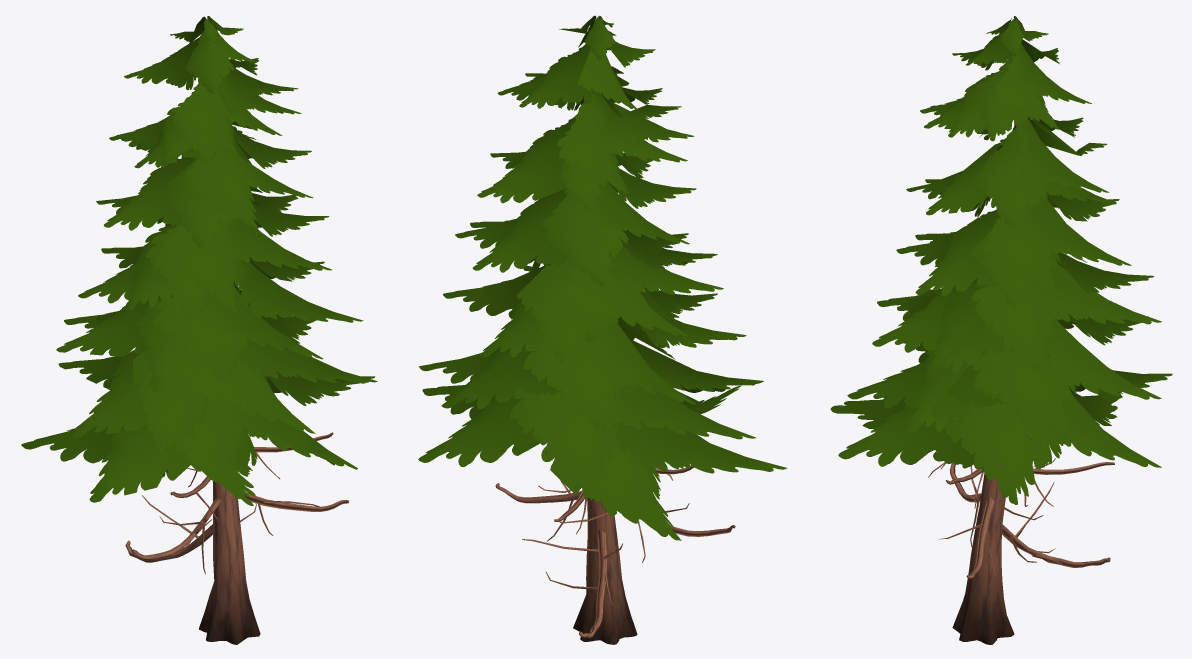
The model's file is nature-pine-4.glb.
The picture shows the model from 3 angles, left to right: view 1: azimuth 30°, elevation 25°; view 2: azimuth 150°, elevation 25°; view 3: azimuth 270°, elevation 25°; orthographic projection. The views are drawn at different scales.
Visible parts, largest first — view 1: Pine_4; view 2: Pine_4; view 3: Pine_4.
Part boxes in pixels (bbox=[...]): Pine_4: bbox=[21, 16, 377, 644]; Pine_4: bbox=[418, 15, 787, 644]; Pine_4: bbox=[830, 16, 1172, 644].
Size of the model in its own units: 5.8 by 10.24 by 5.37.
Materials: 2 (2 with a texture image).
